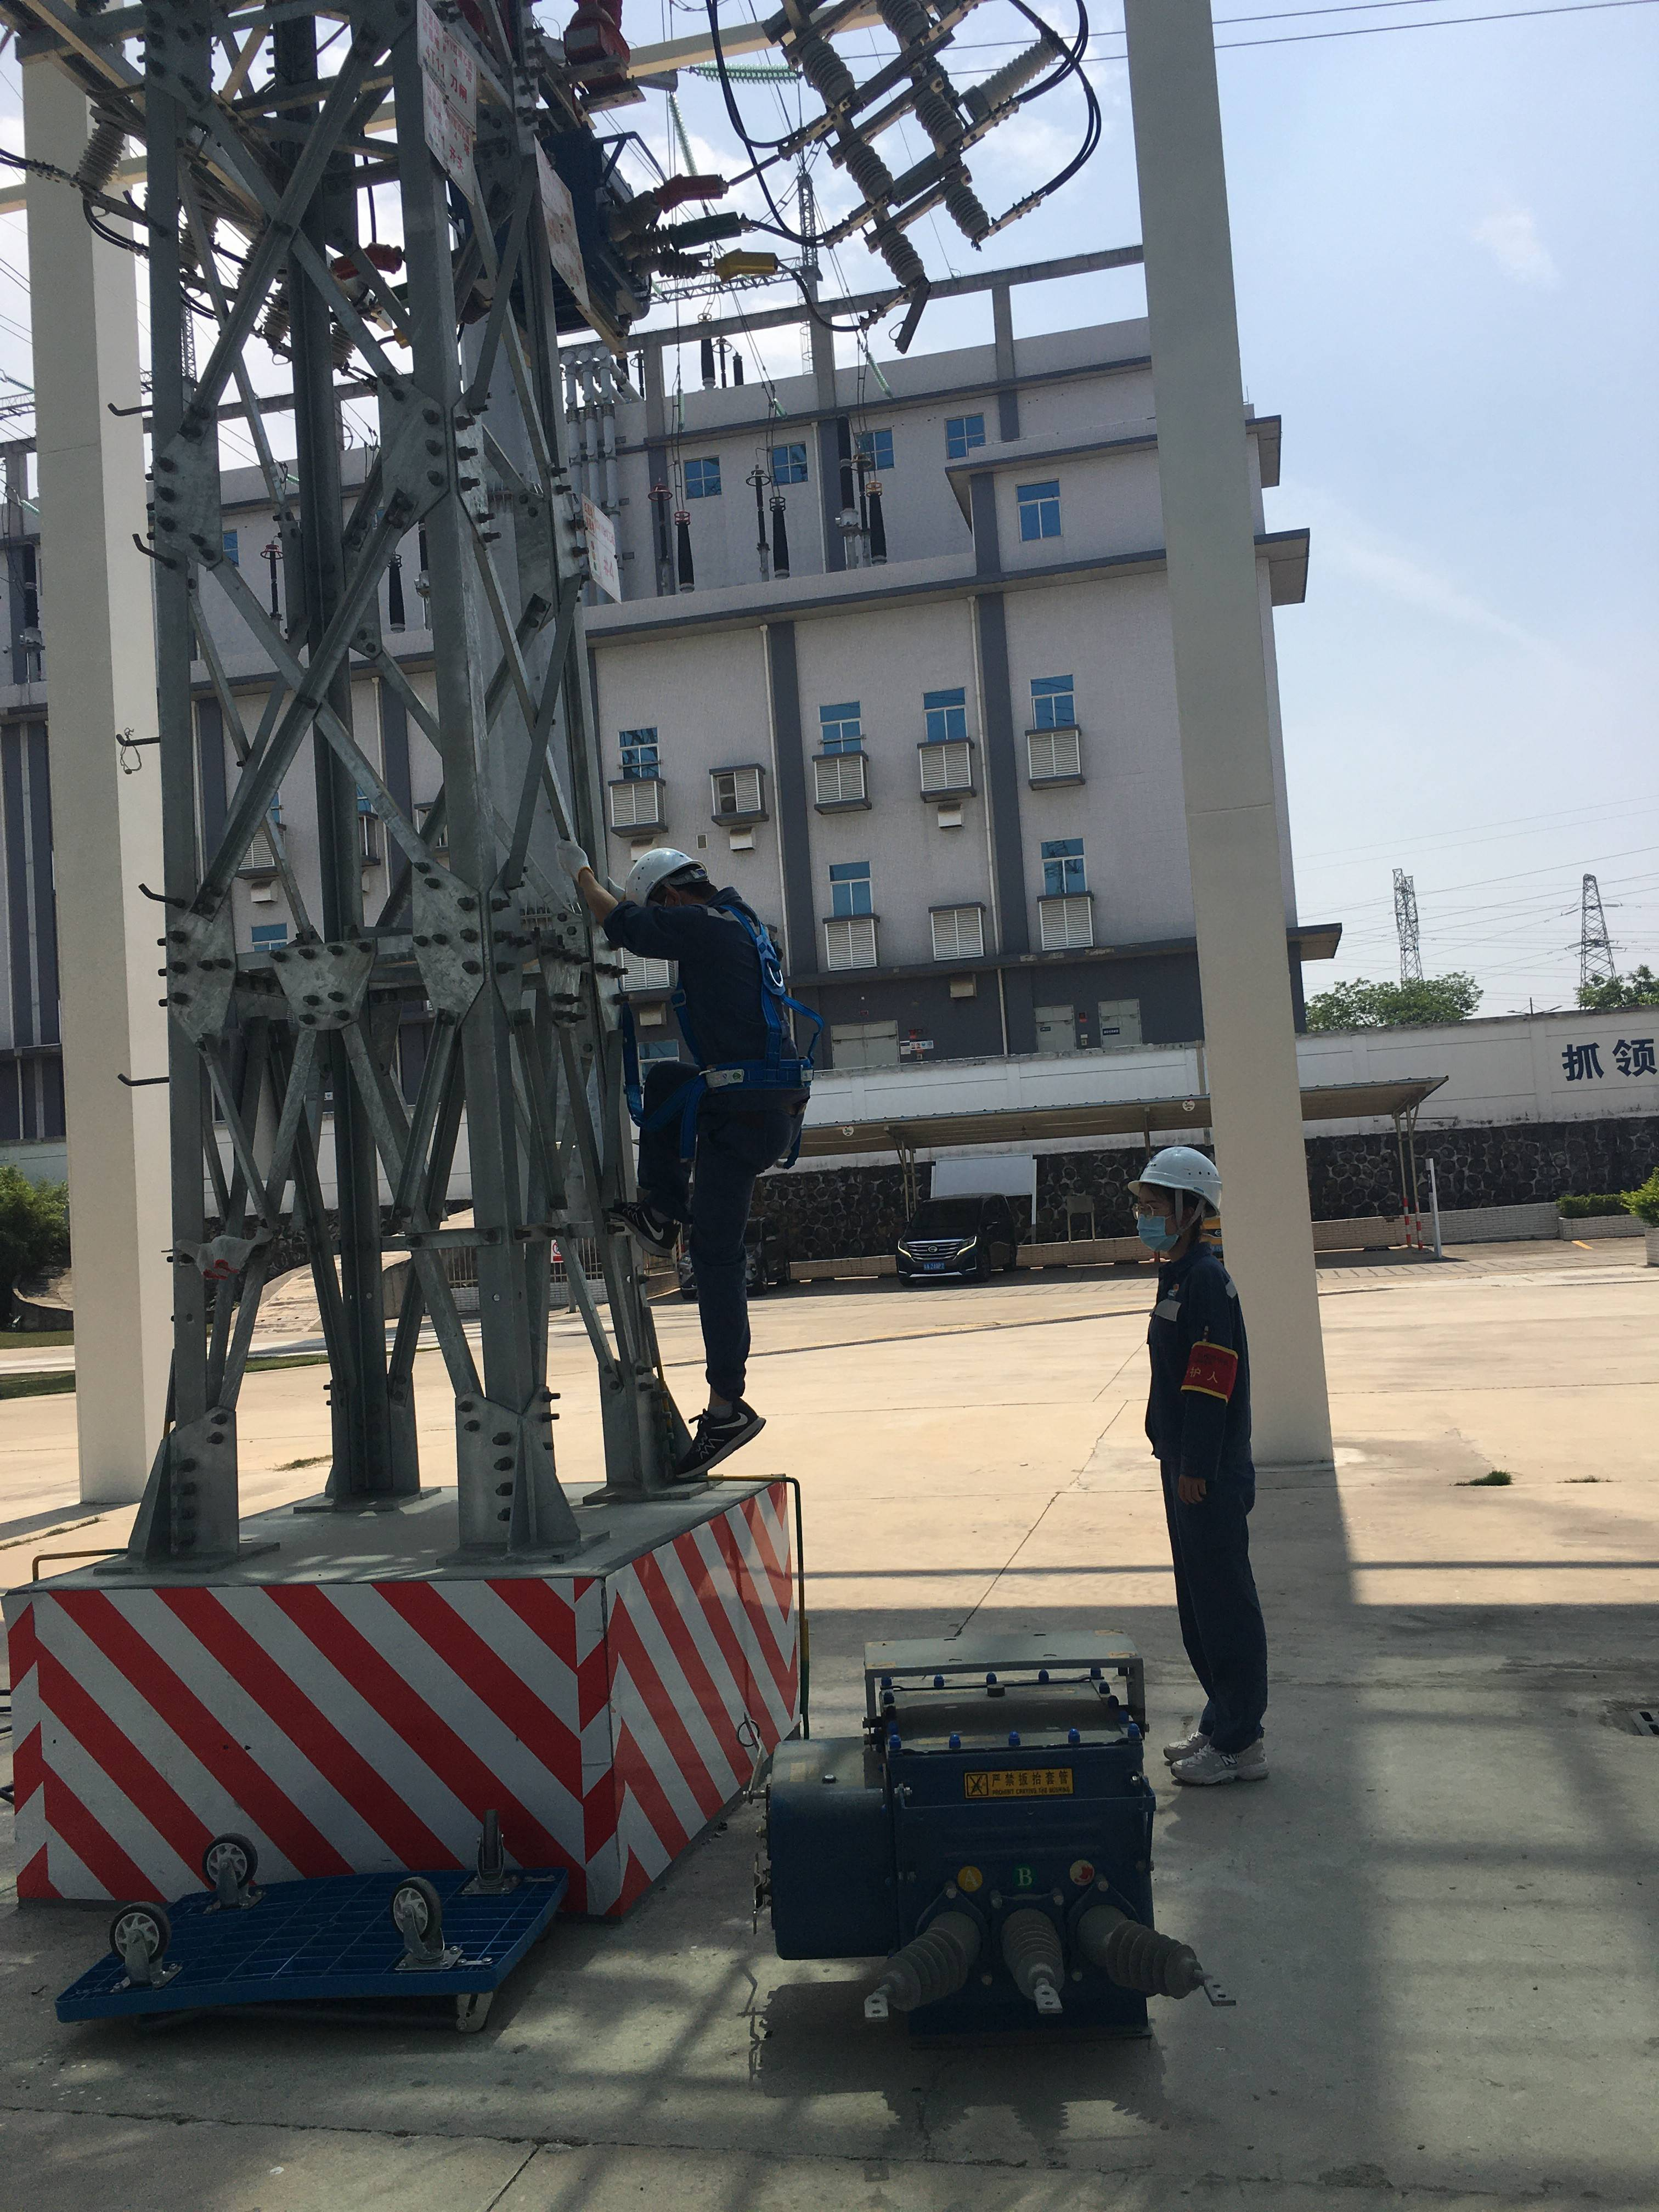downsuit: (638, 1090, 788, 1404), (1164, 1480, 1272, 1738)
upsuit: (622, 897, 789, 1083), (1147, 1273, 1249, 1463)
wrongtop: (575, 869, 641, 941)
